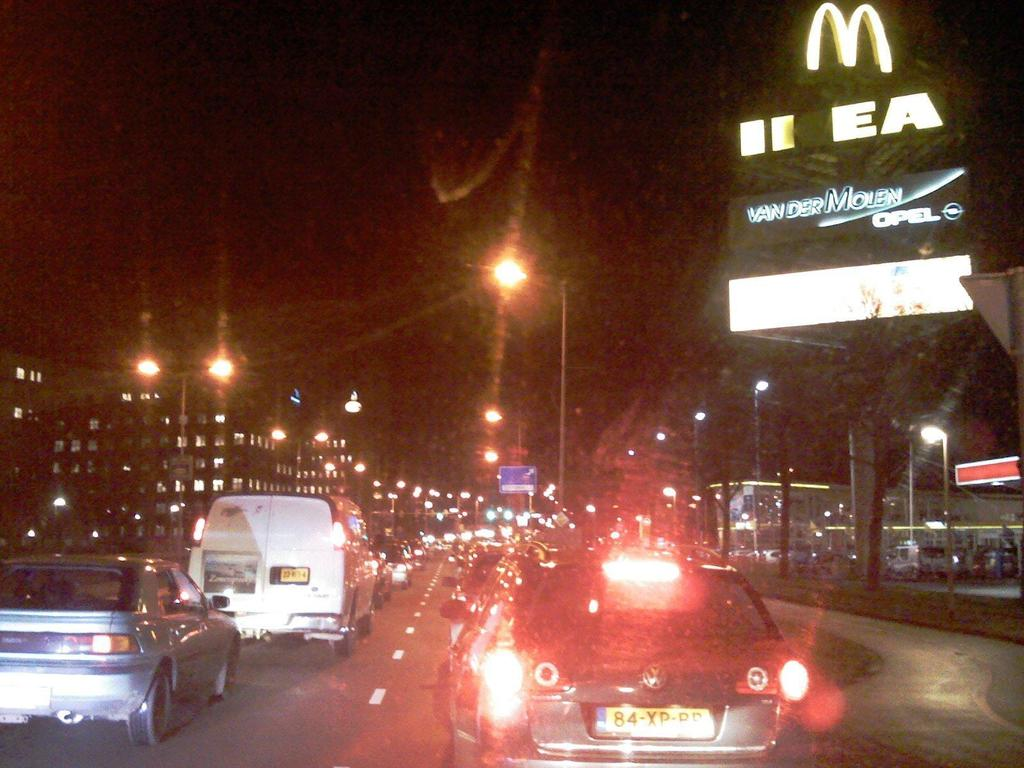Car: (437, 542, 812, 767), (0, 554, 224, 755), (440, 552, 512, 637), (887, 547, 945, 583), (385, 545, 412, 590), (744, 547, 807, 564), (405, 542, 425, 570)
